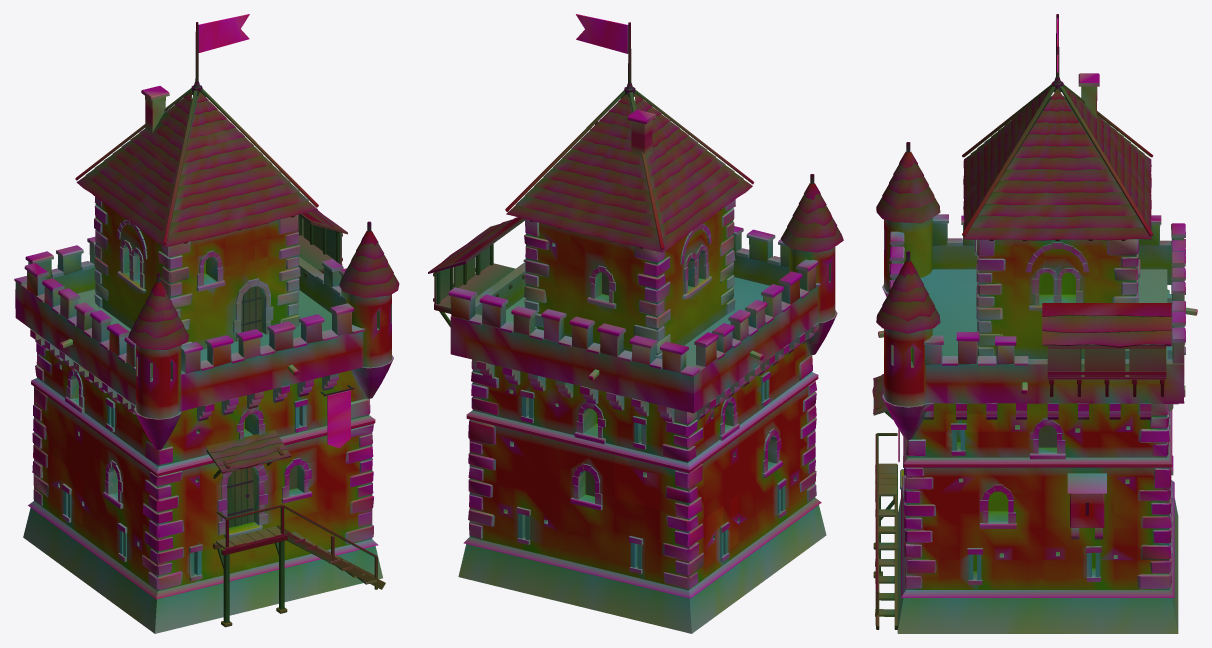
File: keep.glb
3 renders of one model, left to right at view 1: azimuth 30°, elevation 25°; view 2: azimuth 150°, elevation 25°; view 3: azimuth 270°, elevation 25°, orthographic. The views are drawn at different scales.
Visible parts, largest first — view 1: keep_LOD0; view 2: keep_LOD0; view 3: keep_LOD0.
Part boxes in pixels (left/top/right/bottom): keep_LOD0: left=14, top=14, right=399, bottom=633; keep_LOD0: left=428, top=14, right=843, bottom=633; keep_LOD0: left=872, top=14, right=1197, bottom=633.
Size of what is drawn, in the model's own units: 5.23 by 9.44 by 4.94.
